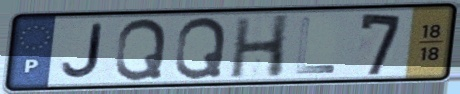7: (359, 11, 403, 77)
H: (227, 12, 294, 80)
J: (59, 21, 105, 81)
L: (293, 15, 338, 76)
Q: (112, 16, 170, 83), (171, 15, 229, 81)
